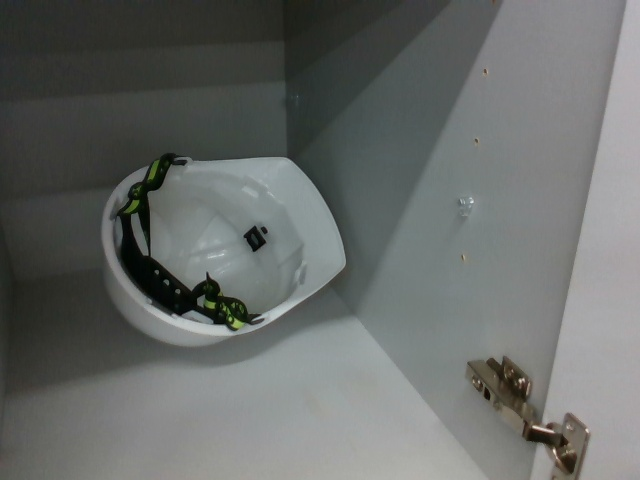helmet: (94, 143, 353, 353)
